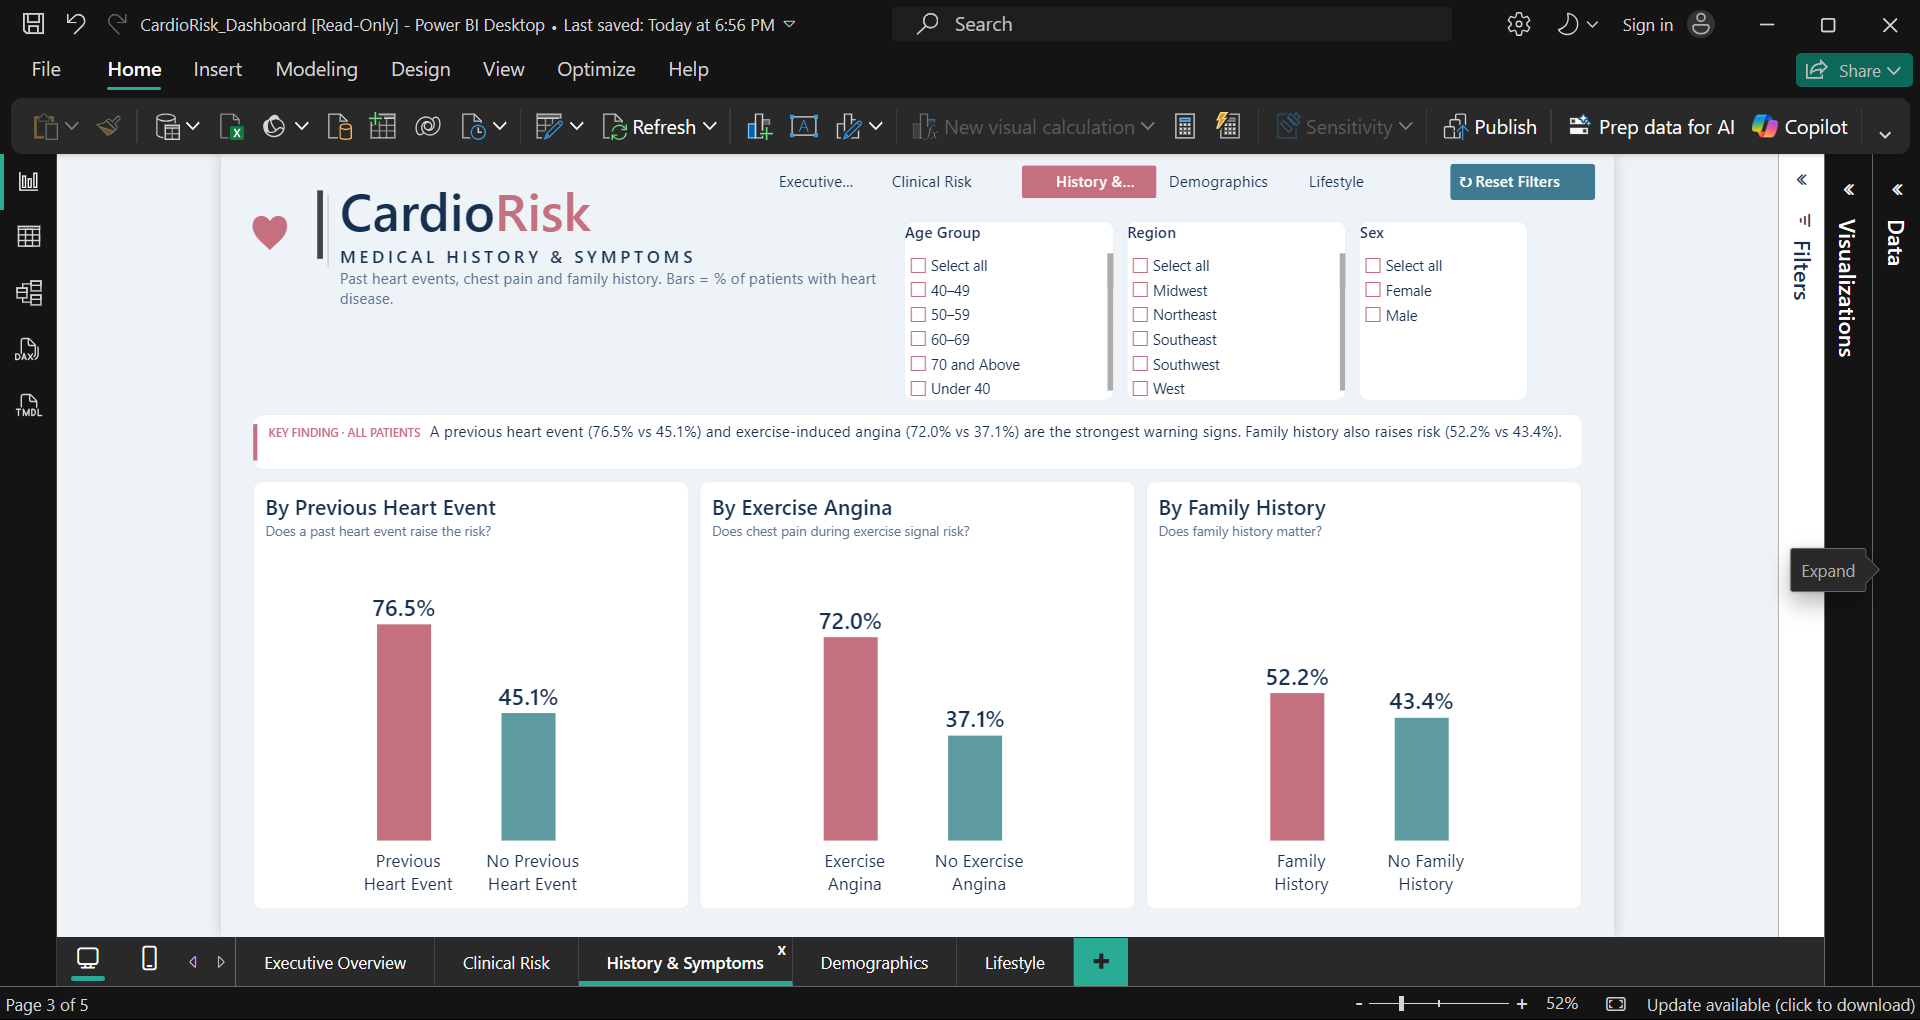

Layout of this report page (visuals, bound fields, positions):
{"tool":"powerbi","page":{"name":"History & Symptoms","canvas":[1920,1080],"ordinal":2},"visuals":[{"type":"textbox","box":[40,50,100,100],"z":900},{"type":"textbox","box":[146,56,2,100],"z":901},{"type":"textbox","box":[164.3,28.1,758.8,244.3],"z":1000},{"type":"textbox","box":[44,359,1832,76],"z":1100},{"type":"textbox","box":[44,372,6,50],"z":1101},{"type":"textbox","box":[66,366,1790,64],"z":1102},{"type":"clusteredColumnChart","title":"By Previous Heart Event","fields":{"Category":["heart_disease_clean.Previous Heart Event Category"],"Y":["heart_disease_clean.Heart Disease Rate by Previous Heart Event"]},"box":[44,451,600,589],"z":3000},{"type":"clusteredColumnChart","title":"By Exercise Angina","fields":{"Category":["heart_disease_clean.Exercise Angina Status"],"Y":["heart_disease_clean.Heart Disease Rate by Exercise Angina"]},"box":[660,451,600,589],"z":3001},{"type":"clusteredColumnChart","title":"By Family History","fields":{"Category":["heart_disease_clean.Family History Category"],"Y":["heart_disease_clean.Heart Disease Rate by Family History"]},"box":[1276,451,600,589],"z":3002},{"type":"actionButton","box":[720,16,186,46],"z":12000},{"type":"actionButton","box":[912,16,186,46],"z":12000},{"type":"actionButton","box":[1104,16,186,46],"z":12000},{"type":"actionButton","box":[1296,16,186,46],"z":12000},{"type":"actionButton","box":[1488,16,186,46],"z":12000},{"type":"slicer","title":"Age Group","fields":{"Values":["heart_disease_clean.Age Group"]},"box":[942,92,289,247],"z":12200},{"type":"slicer","title":"Region","fields":{"Values":["heart_disease_clean.region"]},"box":[1248,92,302,247],"z":12201},{"type":"slicer","title":"Sex","fields":{"Values":["heart_disease_clean.sex"]},"box":[1569,92,232,247],"z":12202},{"type":"actionButton","box":[1694,14,200,50],"z":12300}]}

Visuals, with their boxes on the page's 1920x1080 design canvas (x1, y1, x2, y2). These are canvas units, not pixel positions in the 1920x1020 screenshot, which may show the page scaled, cropped or inside an application window:
textbox: (left=40, top=50, right=140, bottom=150)
textbox: (left=146, top=56, right=148, bottom=156)
textbox: (left=164, top=28, right=923, bottom=272)
textbox: (left=44, top=359, right=1876, bottom=435)
textbox: (left=44, top=372, right=50, bottom=422)
textbox: (left=66, top=366, right=1856, bottom=430)
"By Previous Heart Event" clusteredColumnChart: (left=44, top=451, right=644, bottom=1040)
"By Exercise Angina" clusteredColumnChart: (left=660, top=451, right=1260, bottom=1040)
"By Family History" clusteredColumnChart: (left=1276, top=451, right=1876, bottom=1040)
actionButton: (left=720, top=16, right=906, bottom=62)
actionButton: (left=912, top=16, right=1098, bottom=62)
actionButton: (left=1104, top=16, right=1290, bottom=62)
actionButton: (left=1296, top=16, right=1482, bottom=62)
actionButton: (left=1488, top=16, right=1674, bottom=62)
"Age Group" slicer: (left=942, top=92, right=1231, bottom=339)
"Region" slicer: (left=1248, top=92, right=1550, bottom=339)
"Sex" slicer: (left=1569, top=92, right=1801, bottom=339)
actionButton: (left=1694, top=14, right=1894, bottom=64)
